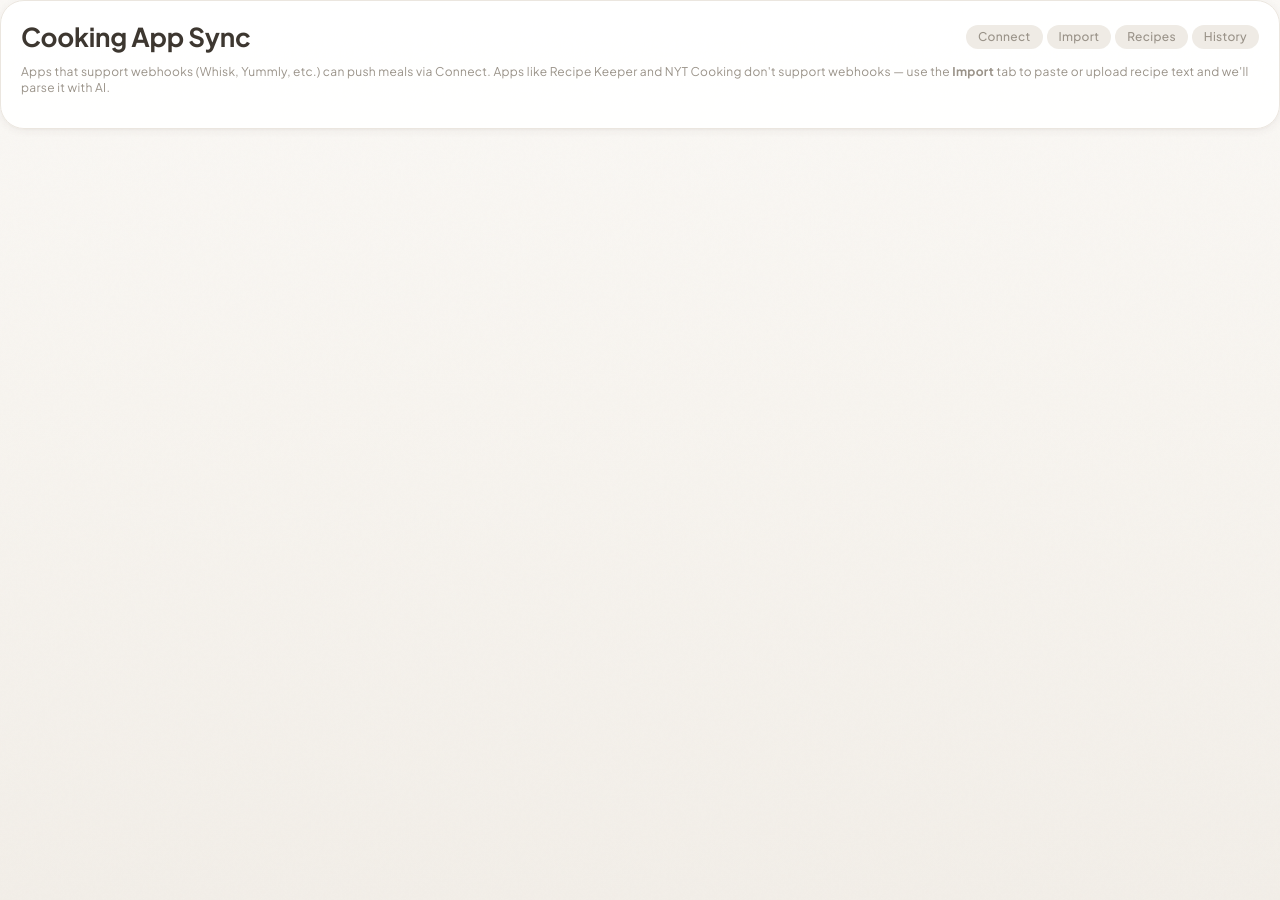
Test case: CookingAppSync › shows Import tab content when Import is clicked
Step 1. Click the button "Import" → {"x": 1079, "y": 37}, box [1046,25,1111,49]
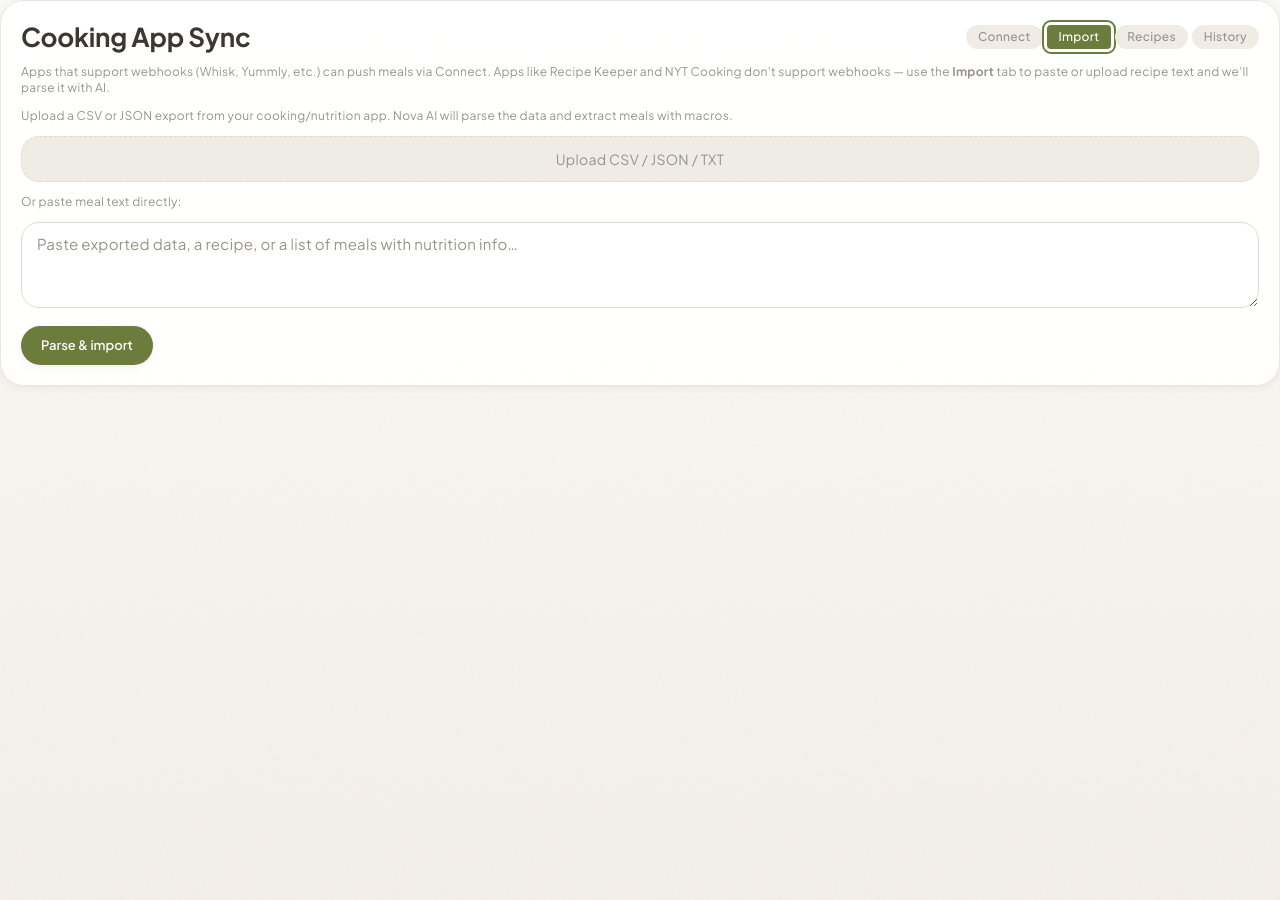
Check: the text "Upload a CSV or JSON export" is shown, box [21,108,733,123]
Check: the text box with placeholder "Paste exported data" is shown, box [21,222,1259,308]
